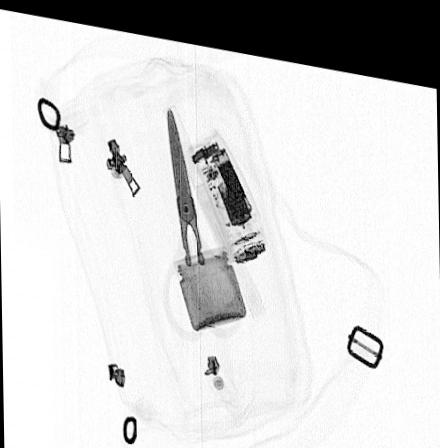Scissors: (162, 98, 240, 330)
